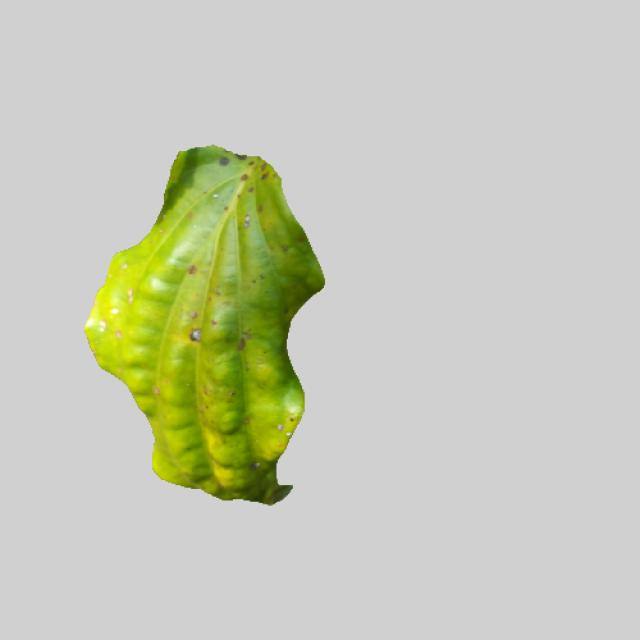yellow-mottle-virus: (77, 145, 326, 498)
